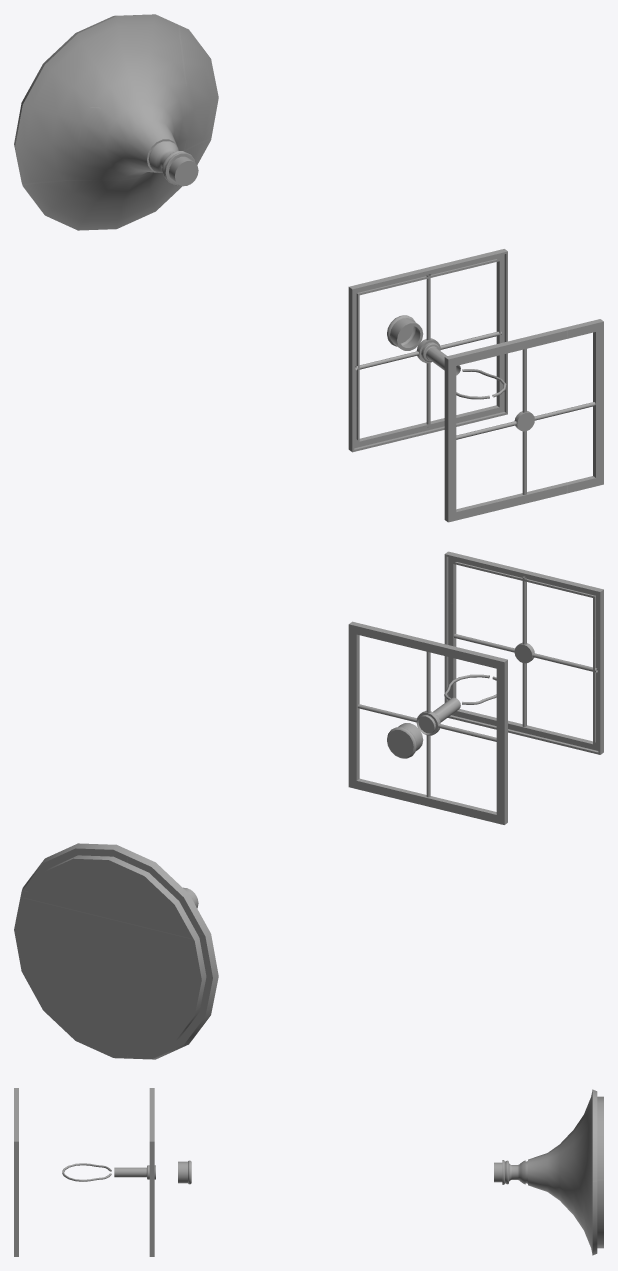
The model's file is MeshFloorLamp_22_0_GeomSubset_1.obj.
3 views of the same model, one above another, from view 1: azimuth 30°, elevation 25°; view 2: azimuth 150°, elevation 25°; view 3: azimuth 270°, elevation 25° (orthographic). The views are drawn at different scales.
Parts seen in each view (by area): view 1: MeshFloorLamp_22_0_GeomSubset_1; view 2: MeshFloorLamp_22_0_GeomSubset_1; view 3: MeshFloorLamp_22_0_GeomSubset_1.
Part boxes in pixels (x1,y1,x2,y2): MeshFloorLamp_22_0_GeomSubset_1: [14, 14, 603, 522]; MeshFloorLamp_22_0_GeomSubset_1: [14, 551, 603, 1059]; MeshFloorLamp_22_0_GeomSubset_1: [14, 1088, 603, 1256].
Bounding box in the file's own units: 0.5306 × 0.5306 × 1.88.
